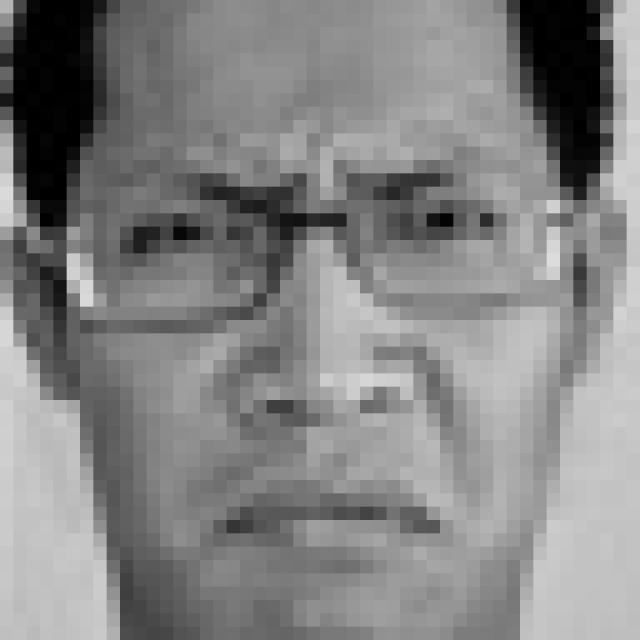disgust: (105, 117, 549, 585)
